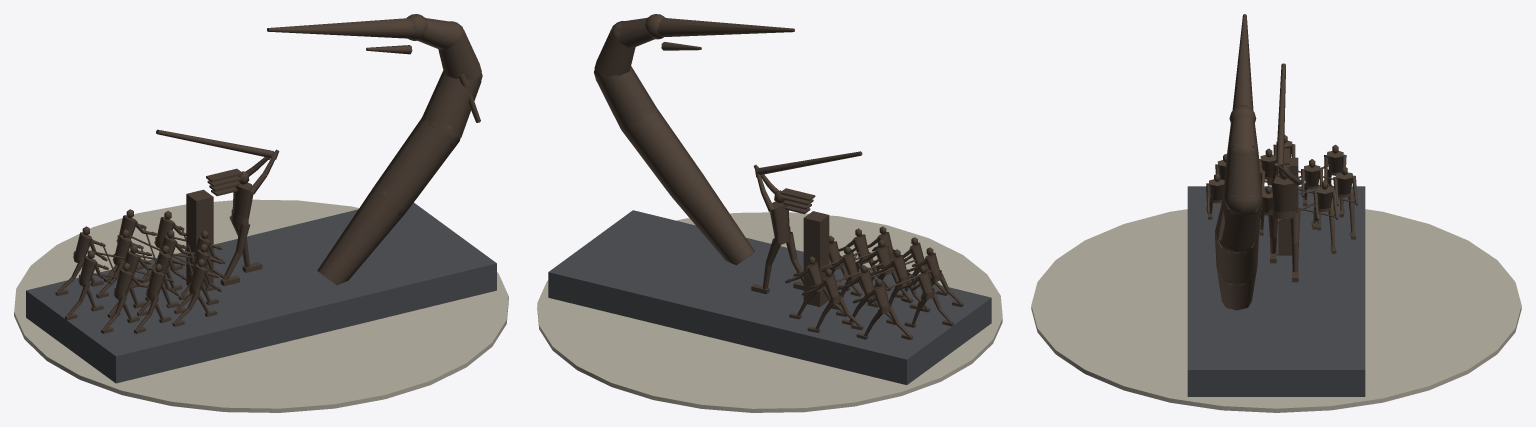
Rendered from slavernijmonument.glb.
3 views of the same model, side by side, from view 1: azimuth 30°, elevation 25°; view 2: azimuth 150°, elevation 25°; view 3: azimuth 270°, elevation 25° (orthographic). The views are drawn at different scales.
Parts seen in each view (by area): view 1: slavernijmonument; view 2: slavernijmonument; view 3: slavernijmonument.
Part boxes in pixels (x1,y1,x2,y2): slavernijmonument: (14,14,508,412); slavernijmonument: (537,14,1002,412); slavernijmonument: (1031,14,1521,412).
Bounding box in the file's own units: 12.4 × 8.12 × 12.4.
